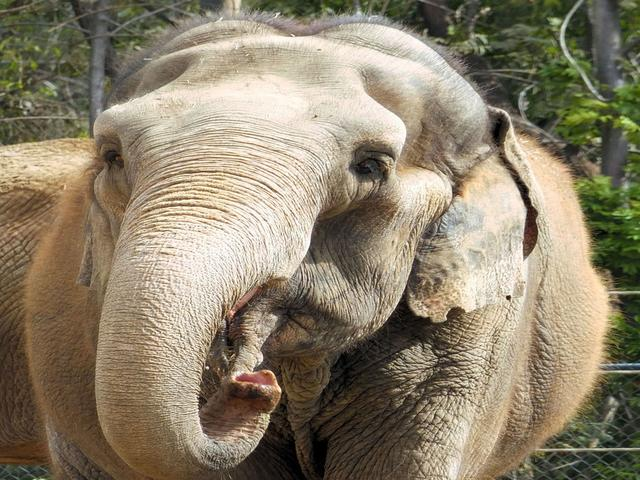elephant: (23, 10, 639, 467)
